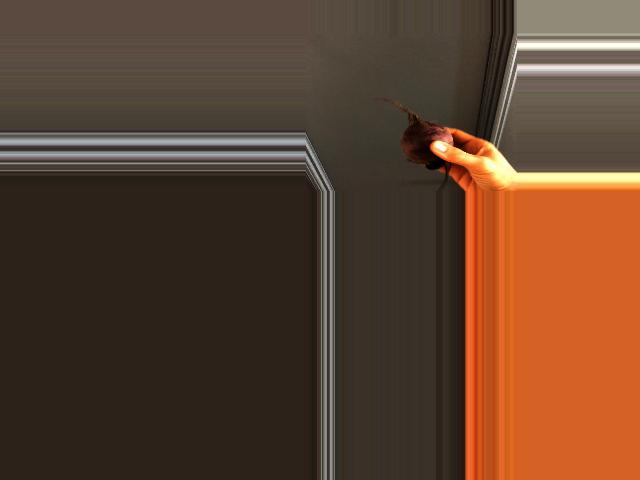beet: (373, 98, 452, 192)
